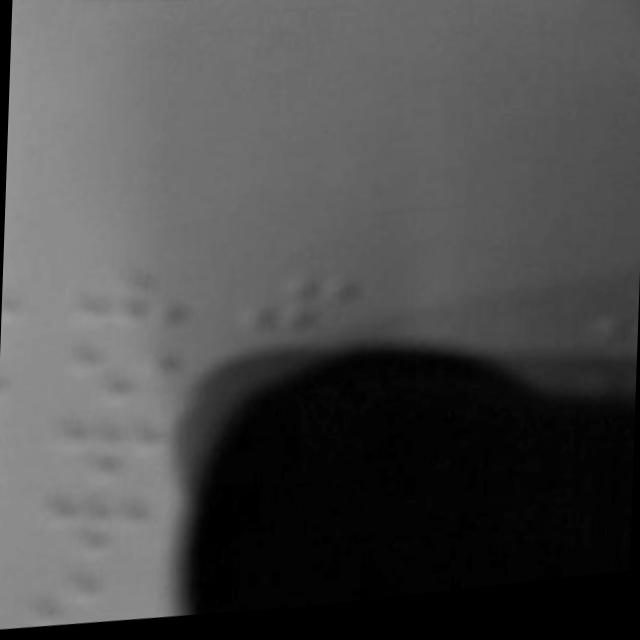braiile: (30, 474, 170, 565), (59, 323, 193, 413), (229, 270, 372, 352), (63, 261, 207, 342), (38, 404, 176, 486), (24, 554, 165, 633)
